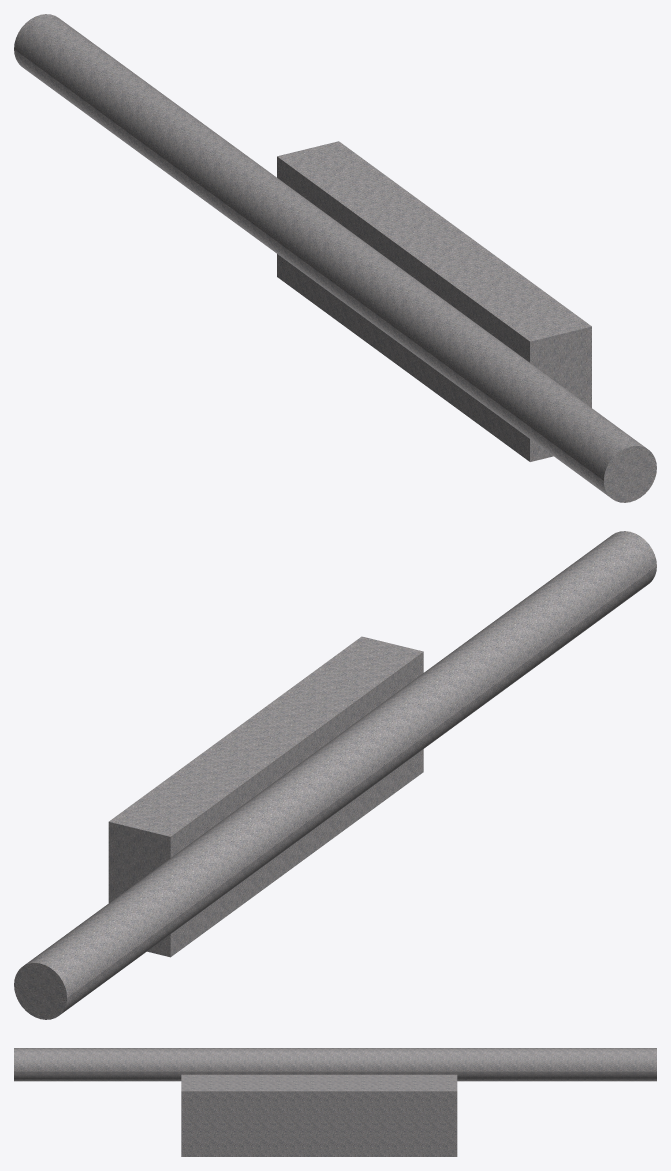
3 renders of one model, top to bottom at view 1: azimuth 30°, elevation 25°; view 2: azimuth 150°, elevation 25°; view 3: azimuth 270°, elevation 25°, orthographic. The views are drawn at different scales.
Parts seen in each view (by area): view 1: 0_3_1_2_1_1_0_3_3; view 2: 0_3_1_2_1_1_0_3_3; view 3: 0_3_1_2_1_1_0_3_3.
Boxes of the visible parts, bbox=[...] form: 0_3_1_2_1_1_0_3_3: bbox=[14, 14, 656, 502]; 0_3_1_2_1_1_0_3_3: bbox=[14, 531, 656, 1019]; 0_3_1_2_1_1_0_3_3: bbox=[14, 1048, 656, 1156].
Size of the model in its own units: 1.6 by 1.52 by 11.53.
2 materials, 2 textured.
